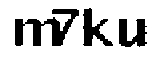7: (55, 6, 78, 48)
k: (81, 6, 113, 52)
m: (9, 16, 60, 52)
u: (116, 16, 151, 50)
